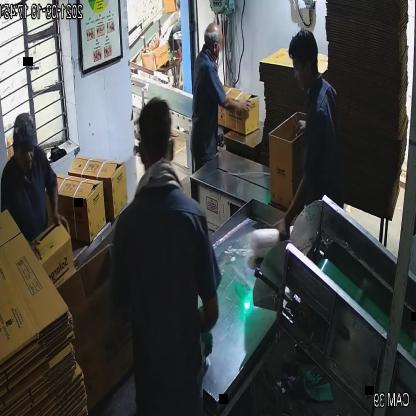no_glove: (269, 154, 313, 252), (44, 171, 74, 240), (216, 87, 254, 125)
